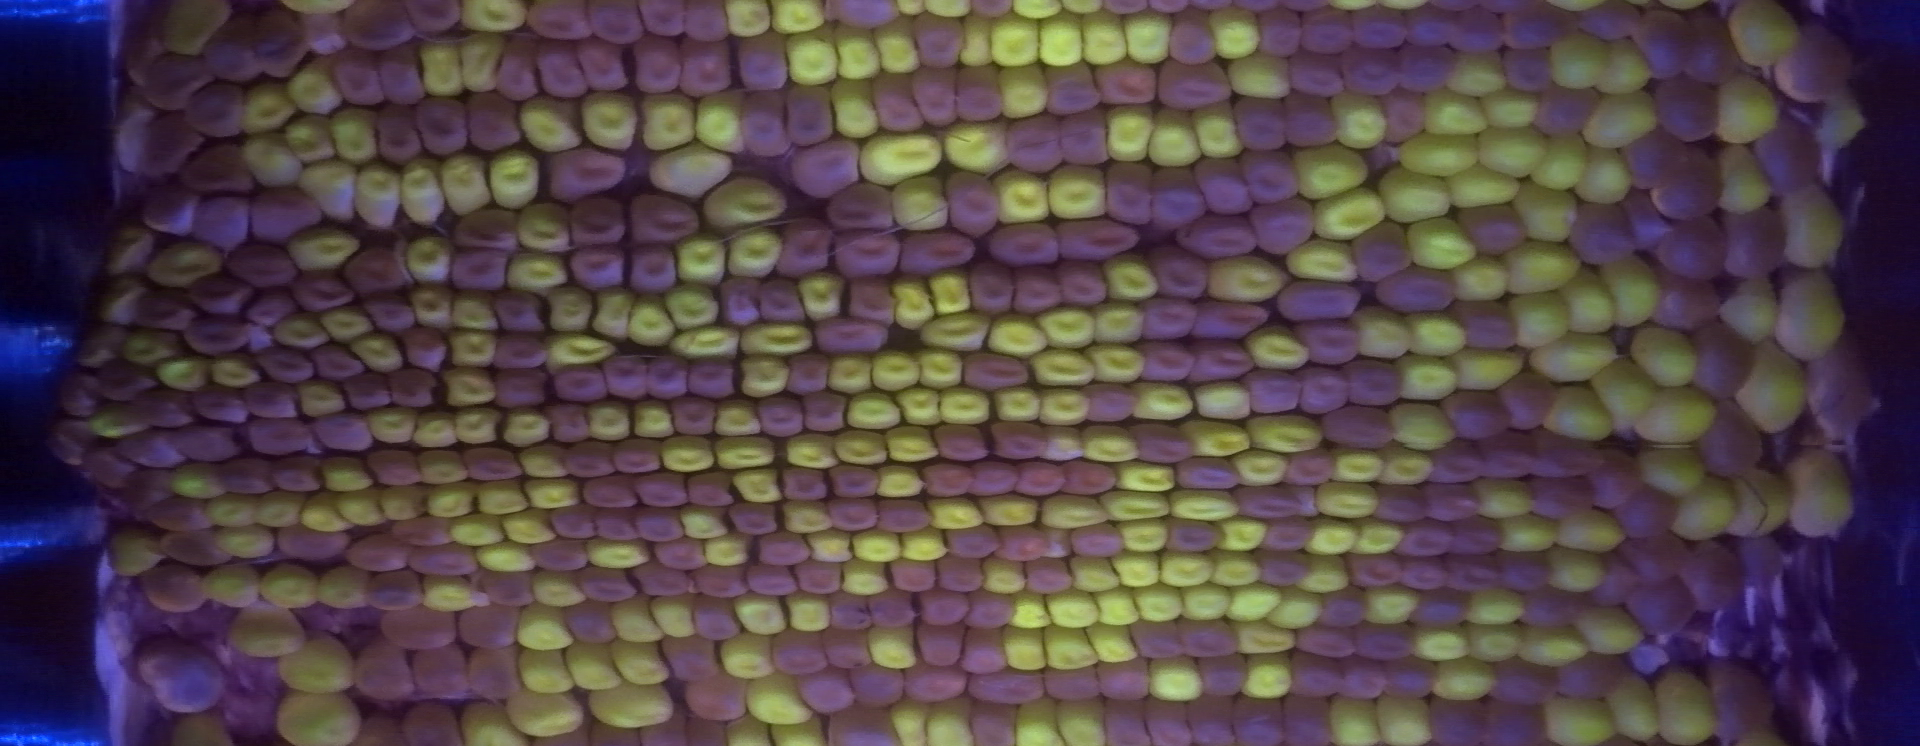fluorescent: (1785, 450, 1853, 540), (1777, 276, 1843, 363), (1745, 350, 1809, 430), (1716, 73, 1782, 147), (1784, 183, 1839, 268), (276, 691, 360, 746), (231, 600, 306, 657), (1719, 143, 1776, 218), (705, 173, 785, 225), (860, 134, 940, 184), (1657, 673, 1712, 746), (1673, 478, 1734, 544), (648, 145, 727, 195), (1587, 89, 1656, 147), (282, 636, 351, 691), (1296, 145, 1365, 200), (1207, 254, 1282, 305), (1379, 169, 1452, 220), (1638, 390, 1713, 440), (644, 89, 700, 156), (587, 688, 672, 731), (1311, 186, 1384, 236), (1716, 281, 1777, 339), (517, 97, 579, 154), (1543, 695, 1613, 746), (1562, 269, 1618, 334), (1731, 6, 1796, 61), (1597, 361, 1647, 432), (242, 130, 301, 190), (1044, 162, 1106, 219), (1505, 240, 1575, 290), (1404, 214, 1473, 265), (1531, 339, 1618, 379), (1611, 676, 1663, 742), (943, 125, 1007, 178), (1228, 53, 1292, 105), (287, 224, 362, 268), (144, 245, 218, 290), (1543, 387, 1609, 437), (487, 149, 541, 211), (1386, 402, 1455, 450), (397, 152, 443, 222), (888, 176, 947, 232), (828, 76, 882, 136), (744, 679, 816, 724), (508, 692, 585, 734), (1332, 91, 1387, 148), (1512, 294, 1567, 352), (165, 1, 224, 55), (305, 160, 358, 220), (1580, 608, 1642, 658), (1610, 257, 1657, 325), (1638, 325, 1692, 382), (1431, 658, 1496, 706), (1400, 132, 1480, 170), (578, 97, 636, 149), (1641, 446, 1702, 495), (1284, 240, 1358, 281), (1147, 110, 1198, 169), (1248, 415, 1322, 454), (415, 36, 463, 97), (1532, 138, 1586, 192), (517, 200, 572, 252), (353, 164, 396, 232), (1478, 129, 1545, 171), (691, 93, 740, 152), (996, 168, 1044, 225), (1554, 40, 1611, 89), (1247, 325, 1308, 370), (517, 646, 571, 697), (1102, 254, 1156, 305), (989, 13, 1040, 69), (1079, 10, 1128, 66), (441, 153, 485, 214), (996, 62, 1044, 118), (1453, 350, 1520, 391), (1449, 167, 1515, 207), (610, 639, 669, 685), (721, 633, 780, 679), (920, 314, 989, 352), (1185, 418, 1255, 456), (1449, 51, 1509, 96), (1191, 107, 1240, 160), (740, 322, 816, 356), (1455, 260, 1513, 304), (1014, 696, 1065, 746), (289, 60, 338, 113), (1327, 698, 1381, 746), (332, 108, 375, 168), (923, 701, 980, 746), (1109, 105, 1151, 167), (1725, 477, 1767, 538), (1040, 491, 1104, 530), (207, 559, 258, 608), (514, 608, 573, 650), (1476, 478, 1534, 521), (727, 230, 780, 278), (1356, 310, 1408, 358), (673, 325, 740, 363), (790, 24, 836, 78), (1524, 630, 1589, 668), (1523, 192, 1576, 239), (1427, 91, 1485, 132), (1408, 312, 1467, 354), (1124, 10, 1169, 64), (462, 29, 498, 96), (460, 702, 516, 746), (1545, 548, 1600, 592), (927, 492, 987, 533), (1315, 483, 1379, 521), (313, 565, 370, 608), (677, 236, 727, 284), (740, 353, 790, 401), (1191, 379, 1249, 420), (287, 114, 333, 165), (1040, 16, 1085, 69), (1033, 350, 1098, 387), (509, 250, 569, 289), (1558, 510, 1618, 549), (244, 81, 291, 130), (610, 601, 659, 649), (796, 271, 845, 318), (351, 331, 404, 375), (425, 571, 478, 615), (629, 293, 672, 347), (566, 647, 620, 690), (835, 33, 883, 81), (1247, 650, 1294, 698), (887, 277, 933, 326), (1577, 154, 1626, 201), (1044, 630, 1101, 670), (544, 284, 594, 330), (104, 223, 149, 273), (1379, 701, 1429, 746), (878, 23, 922, 75), (547, 336, 613, 370), (1107, 491, 1176, 524), (100, 273, 143, 326), (320, 450, 372, 492), (261, 567, 315, 609), (1331, 443, 1385, 485), (1044, 588, 1100, 628), (1213, 10, 1255, 62), (1236, 446, 1293, 484), (111, 533, 159, 578), (298, 489, 345, 534), (500, 510, 558, 546), (1089, 624, 1138, 668), (1160, 552, 1215, 592), (833, 429, 891, 465), (1760, 465, 1793, 530), (500, 408, 551, 450), (711, 436, 774, 470), (525, 479, 585, 514), (1464, 587, 1524, 622), (440, 366, 493, 405), (1054, 701, 1101, 746), (465, 4, 531, 36), (1172, 491, 1236, 524), (1269, 587, 1318, 630), (1093, 300, 1142, 343), (733, 597, 789, 635), (863, 627, 918, 665), (1085, 419, 1135, 461), (666, 287, 718, 327), (364, 403, 415, 443), (980, 496, 1042, 529), (782, 432, 835, 472), (407, 235, 449, 283), (1500, 514, 1558, 550), (594, 285, 636, 334), (1296, 555, 1346, 595), (426, 481, 478, 521), (711, 397, 763, 436), (1471, 622, 1522, 661), (1149, 661, 1201, 699), (651, 594, 696, 639), (531, 570, 585, 606), (888, 697, 928, 746), (1095, 345, 1149, 382), (1402, 360, 1451, 401), (1608, 40, 1644, 94), (419, 450, 470, 488), (451, 290, 497, 332), (1069, 552, 1116, 594), (1416, 625, 1468, 661), (989, 317, 1046, 352), (1354, 518, 1403, 557), (937, 390, 994, 423), (122, 328, 174, 365), (845, 392, 896, 429), (1378, 450, 1433, 484), (380, 481, 425, 523), (825, 353, 871, 394), (175, 463, 222, 503), (1044, 307, 1091, 348), (277, 307, 324, 347), (156, 356, 212, 390), (1114, 552, 1163, 590), (872, 352, 921, 390), (474, 480, 528, 514), (884, 428, 938, 462), (932, 269, 969, 320), (590, 541, 653, 571), (407, 284, 447, 330), (1228, 586, 1280, 621), (664, 436, 715, 472), (1307, 521, 1354, 559), (991, 388, 1043, 423), (1116, 461, 1177, 490), (1365, 589, 1416, 625), (1042, 392, 1092, 428), (920, 350, 966, 388), (722, 1, 774, 36), (316, 309, 376, 338), (787, 594, 831, 633), (959, 20, 993, 70), (980, 559, 1025, 597), (250, 495, 304, 527), (207, 492, 253, 529), (1182, 584, 1228, 621), (1220, 516, 1266, 552), (298, 380, 345, 415), (733, 469, 781, 505), (1011, 590, 1054, 630), (1097, 589, 1140, 628), (1211, 556, 1260, 590), (337, 488, 381, 526), (898, 386, 936, 430), (516, 443, 561, 480), (217, 530, 278, 557), (591, 399, 633, 439), (842, 563, 891, 597), (479, 544, 531, 575), (449, 334, 495, 370), (774, 5, 820, 39), (457, 410, 503, 445), (1005, 631, 1046, 670), (414, 409, 456, 447), (629, 404, 673, 440), (709, 535, 754, 570), (449, 519, 504, 548), (211, 353, 255, 387), (1123, 521, 1169, 552), (1138, 590, 1185, 621), (882, 463, 921, 500), (722, 717, 769, 746), (852, 534, 902, 561), (771, 720, 823, 746), (94, 407, 141, 435), (813, 530, 852, 563), (683, 511, 726, 540), (905, 530, 947, 560), (786, 505, 827, 533)
nonfluorescent: (1774, 26, 1848, 110), (135, 639, 216, 710), (1708, 653, 1771, 741), (1815, 345, 1872, 441), (1654, 151, 1719, 220), (1761, 122, 1820, 197), (1565, 198, 1631, 265), (1693, 331, 1757, 398), (1700, 405, 1762, 474), (1727, 213, 1788, 282), (247, 9, 305, 78), (629, 192, 699, 247), (1378, 269, 1456, 318), (547, 149, 629, 196), (142, 54, 216, 105), (1684, 9, 1734, 82), (327, 45, 384, 109), (795, 140, 860, 195), (534, 37, 590, 99), (988, 220, 1062, 268), (1155, 58, 1228, 105), (1620, 134, 1685, 187), (140, 119, 197, 179), (1058, 111, 1116, 171), (397, 698, 469, 746), (1662, 224, 1727, 277), (1625, 586, 1693, 635), (684, 674, 749, 725), (1664, 80, 1716, 145), (182, 141, 252, 189), (1199, 162, 1258, 217), (785, 83, 838, 145), (338, 5, 414, 47), (251, 190, 324, 233), (1043, 65, 1104, 116), (1096, 58, 1157, 109), (735, 96, 785, 158), (947, 168, 997, 230), (1533, 432, 1600, 479), (1528, 475, 1596, 522), (1280, 279, 1359, 318), (970, 670, 1047, 710), (901, 230, 976, 272), (383, 608, 458, 649), (911, 10, 966, 66), (1151, 247, 1209, 301), (1464, 206, 1526, 256), (1056, 220, 1136, 258), (249, 415, 316, 461), (1692, 540, 1738, 608), (347, 243, 410, 290), (469, 96, 520, 154), (1444, 396, 1513, 439), (190, 80, 245, 134), (464, 647, 519, 701), (1255, 197, 1309, 252), (192, 198, 249, 251), (1353, 225, 1409, 278), (831, 186, 895, 233), (1107, 163, 1158, 220), (1615, 485, 1673, 537), (830, 710, 913, 746), (373, 51, 424, 110), (1153, 169, 1204, 228), (1643, 13, 1686, 82), (1656, 277, 1716, 326), (1589, 446, 1636, 508), (776, 222, 830, 276), (871, 80, 924, 134), (576, 40, 628, 96), (355, 648, 411, 699), (633, 38, 683, 96), (1325, 407, 1389, 452), (830, 234, 901, 274), (796, 670, 858, 715), (1630, 535, 1686, 586), (812, 318, 888, 355), (1480, 703, 1545, 746), (1553, 653, 1618, 696), (680, 44, 733, 96), (1011, 114, 1062, 169), (1240, 100, 1291, 156), (415, 100, 471, 149), (456, 606, 518, 650), (149, 495, 216, 537), (842, 281, 902, 326), (1289, 649, 1343, 699), (414, 650, 475, 695), (207, 22, 253, 80), (143, 565, 201, 611), (498, 37, 539, 103), (1502, 4, 1569, 44), (961, 353, 1033, 390), (738, 39, 791, 89), (1168, 15, 1223, 62), (550, 360, 607, 405), (1347, 360, 1404, 405), (191, 273, 253, 315), (574, 198, 624, 250), (1395, 49, 1455, 92), (1183, 220, 1255, 256), (278, 522, 353, 556), (1051, 263, 1108, 307), (295, 268, 353, 312), (1292, 625, 1365, 659), (1436, 434, 1488, 483), (662, 636, 715, 684), (1191, 300, 1273, 331), (1489, 664, 1555, 702), (587, 2, 647, 44), (315, 413, 375, 454), (373, 105, 419, 160), (225, 247, 298, 282), (367, 445, 425, 488), (1169, 522, 1232, 561), (1014, 268, 1070, 311), (624, 251, 673, 300), (1141, 421, 1191, 469), (1463, 300, 1513, 348), (1297, 364, 1347, 412), (348, 538, 415, 573), (144, 185, 197, 230), (1431, 701, 1484, 746), (457, 209, 519, 247), (175, 428, 241, 463), (340, 372, 397, 414), (1446, 10, 1502, 51), (1520, 588, 1576, 630), (1291, 97, 1340, 145), (969, 701, 1020, 746), (1442, 555, 1504, 593), (773, 631, 827, 674), (456, 251, 514, 290), (1420, 479, 1476, 521), (1349, 10, 1409, 48), (523, 7, 591, 40), (1542, 92, 1594, 135), (1303, 9, 1357, 50), (936, 423, 994, 461), (580, 563, 639, 601), (1182, 624, 1237, 664), (408, 548, 475, 581), (567, 597, 615, 643), (250, 383, 299, 429), (607, 350, 651, 401), (1248, 371, 1298, 415), (1196, 345, 1253, 385), (752, 278, 804, 320), (186, 318, 252, 352), (191, 390, 257, 423), (489, 375, 550, 410), (50, 416, 97, 463), (961, 66, 1000, 121), (384, 369, 433, 413), (1107, 695, 1149, 746), (1504, 50, 1555, 92), (1509, 372, 1550, 424), (1495, 549, 1551, 587), (1354, 620, 1414, 655), (578, 472, 636, 508), (137, 289, 191, 328), (1489, 432, 1534, 479), (302, 2, 345, 51), (1251, 160, 1300, 203), (1188, 703, 1237, 746), (271, 450, 320, 492), (129, 468, 171, 517), (1284, 60, 1346, 94), (987, 420, 1042, 458), (164, 534, 235, 563), (1086, 383, 1138, 424), (905, 668, 967, 701), (1147, 699, 1191, 746), (1286, 698, 1329, 746), (947, 528, 1004, 563), (913, 625, 962, 666), (367, 573, 422, 610), (489, 336, 547, 370), (1262, 551, 1314, 590), (852, 673, 905, 710), (1234, 703, 1281, 746), (1258, 9, 1300, 55), (686, 356, 733, 398), (1135, 620, 1183, 661), (129, 16, 159, 81), (571, 249, 624, 285), (918, 589, 967, 630), (1316, 593, 1365, 633), (756, 535, 813, 570), (1145, 303, 1195, 342), (1139, 341, 1189, 380), (1245, 483, 1296, 522), (1344, 53, 1395, 92), (1014, 459, 1065, 497), (500, 293, 546, 334), (638, 559, 684, 600), (1311, 322, 1360, 361), (879, 496, 929, 534), (642, 355, 684, 399), (84, 447, 129, 490), (129, 430, 180, 467), (1349, 550, 1401, 587), (824, 588, 869, 630), (566, 437, 612, 478), (315, 341, 361, 381), (369, 294, 416, 333), (97, 370, 156, 402), (684, 472, 733, 510), (640, 507, 689, 545), (227, 462, 276, 500), (924, 65, 951, 134), (1629, 197, 1665, 247), (672, 394, 714, 439), (804, 393, 851, 432), (692, 603, 740, 641), (966, 461, 1014, 499), (822, 633, 874, 668), (533, 540, 585, 575), (402, 330, 451, 366), (636, 473, 689, 506), (762, 398, 807, 437), (1000, 524, 1046, 563), (718, 281, 756, 327), (1386, 94, 1424, 141), (1400, 552, 1446, 590), (1065, 457, 1117, 491), (1416, 597, 1476, 626), (888, 559, 936, 595), (468, 450, 523, 481), (1406, 10, 1453, 47), (1587, 1, 1635, 38), (1048, 671, 1101, 704), (1599, 549, 1632, 601), (634, 2, 683, 38), (962, 630, 1004, 671), (1180, 458, 1231, 492), (684, 2, 730, 40), (387, 521, 451, 548), (871, 595, 917, 632), (830, 1, 899, 26), (653, 538, 705, 570), (263, 352, 316, 383), (1387, 661, 1431, 699), (699, 563, 744, 600), (920, 465, 967, 500), (65, 372, 105, 413), (1205, 655, 1243, 698), (784, 468, 833, 501), (729, 502, 778, 535), (591, 507, 640, 540), (1455, 521, 1510, 550), (969, 590, 1015, 625), (611, 439, 658, 473), (1097, 661, 1153, 690), (833, 497, 880, 530), (1024, 563, 1075, 594), (831, 462, 876, 497), (1375, 489, 1420, 523), (549, 405, 589, 443), (154, 392, 196, 429), (1068, 526, 1124, 552), (978, 267, 1013, 311), (787, 360, 831, 394), (485, 573, 535, 603), (796, 563, 839, 598), (551, 505, 591, 540), (933, 560, 986, 587), (752, 567, 796, 599), (1342, 668, 1387, 698), (1265, 518, 1305, 552), (246, 295, 289, 327), (1746, 541, 1780, 579), (411, 1, 456, 31), (1294, 451, 1333, 484), (1404, 522, 1449, 551)
